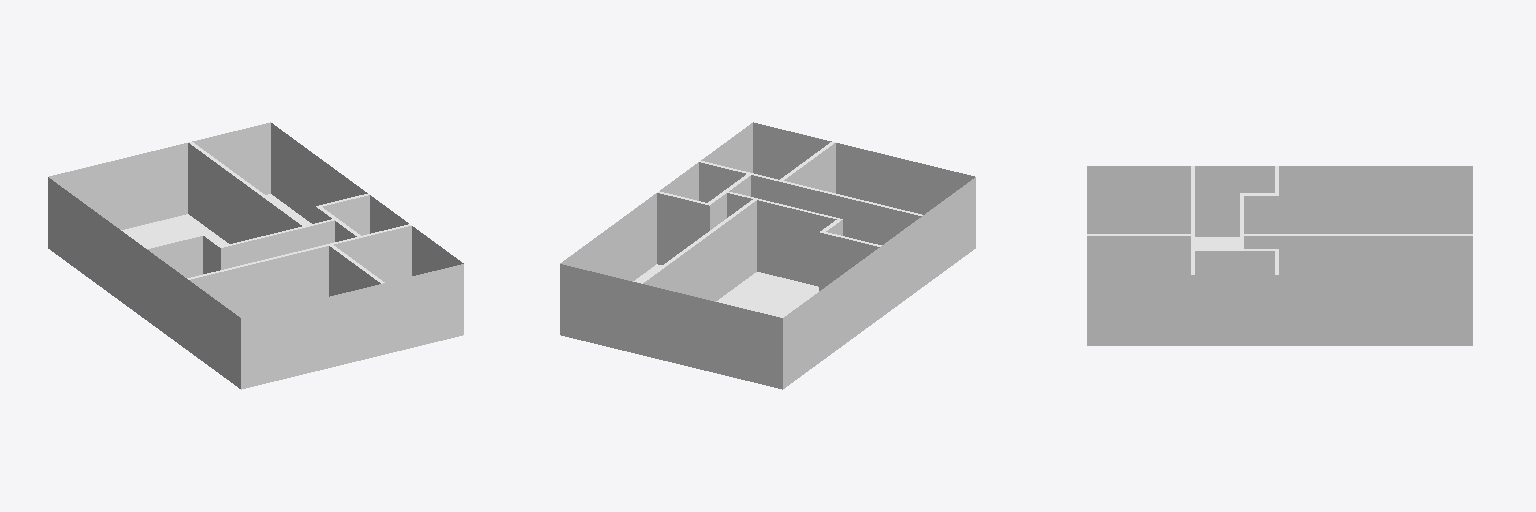
Rendered from maison (2).obj.
The picture shows the model from 3 angles: view 1: azimuth 30°, elevation 25°; view 2: azimuth 150°, elevation 25°; view 3: azimuth 270°, elevation 25°; orthographic projection.
Parts seen in each view (by area): view 1: Plane001, Object; view 2: Plane001, Object; view 3: Plane001, Object.
Boxes of the visible parts, x1=… form: Plane001: x1=48, y1=122, x2=463, y2=389; Object: x1=145, y1=142, x2=411, y2=354; Plane001: x1=560, y1=122, x2=975, y2=389; Object: x1=639, y1=142, x2=923, y2=353; Plane001: x1=1087, y1=166, x2=1472, y2=345; Object: x1=1087, y1=166, x2=1472, y2=344.
Bounding box in the file's own units: 315 × 96.39 × 472.